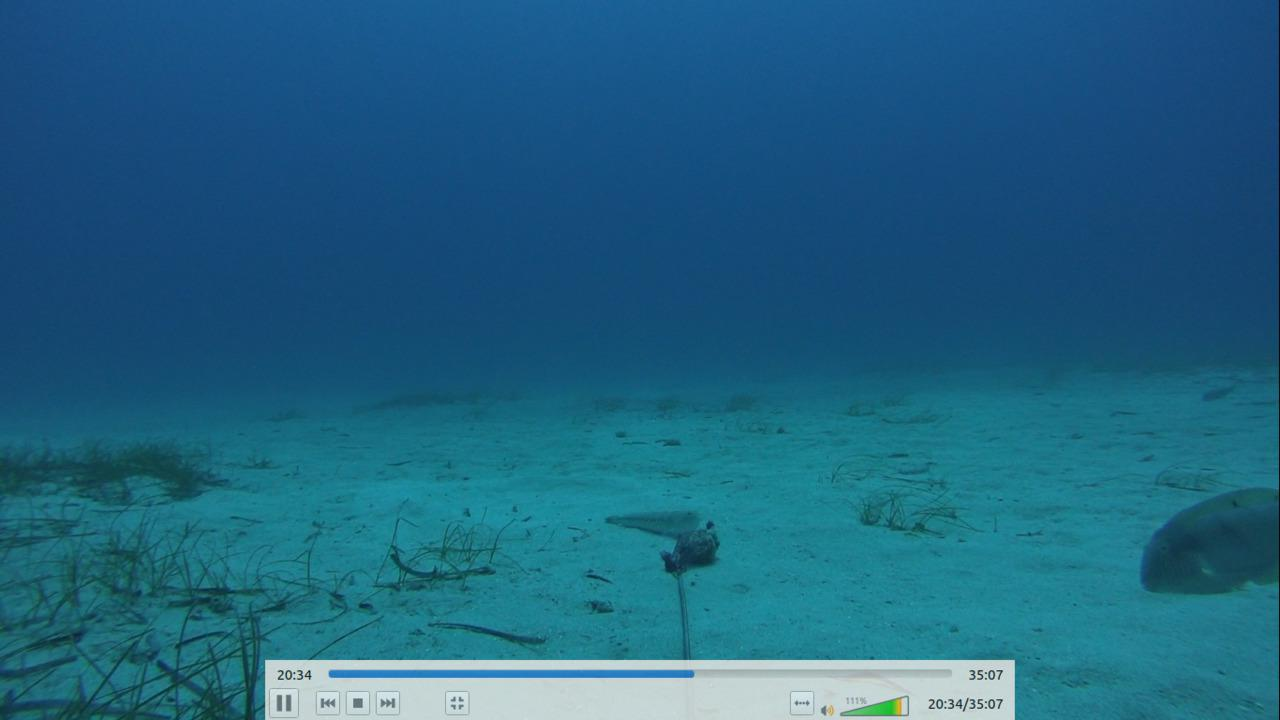raor: (1133, 480, 1278, 599)
